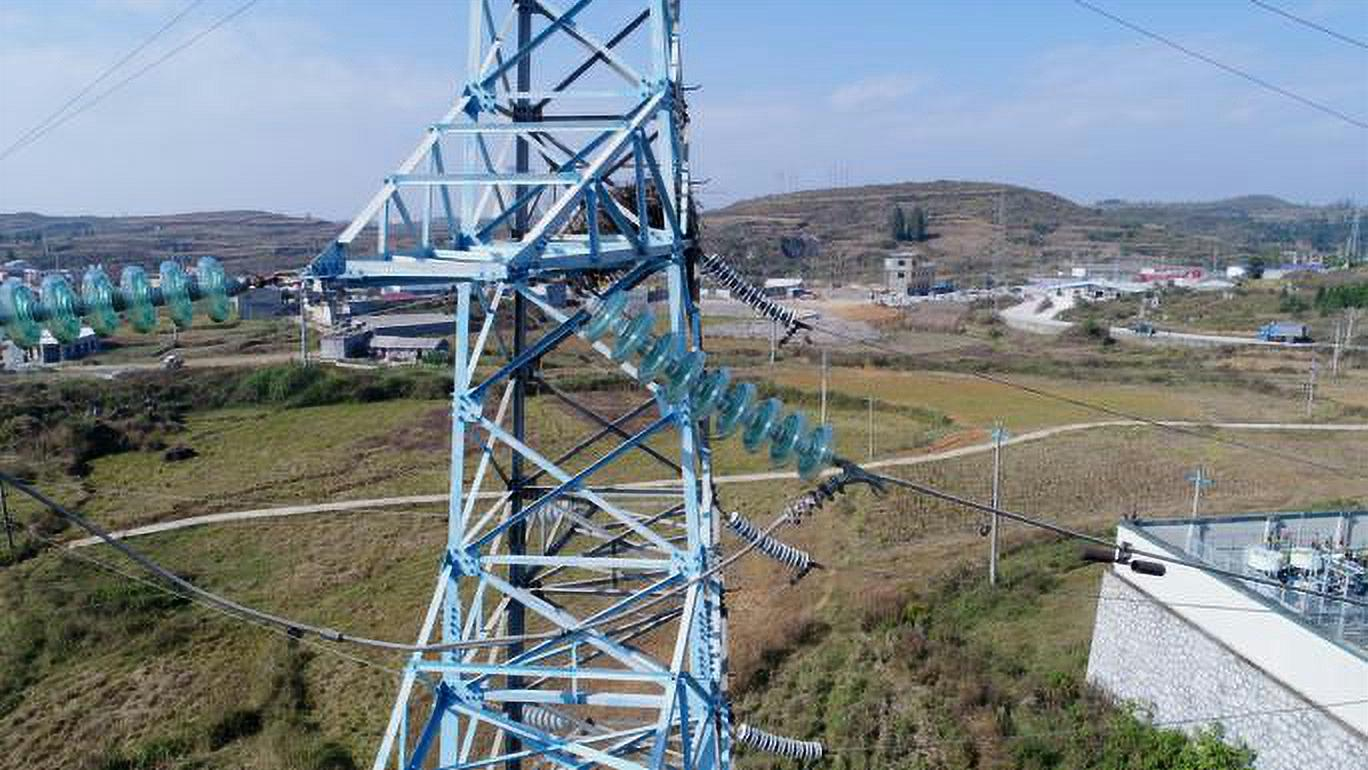insulator: (574, 282, 840, 490), (1, 250, 245, 354), (701, 242, 808, 334), (718, 503, 817, 577), (731, 712, 831, 764)
